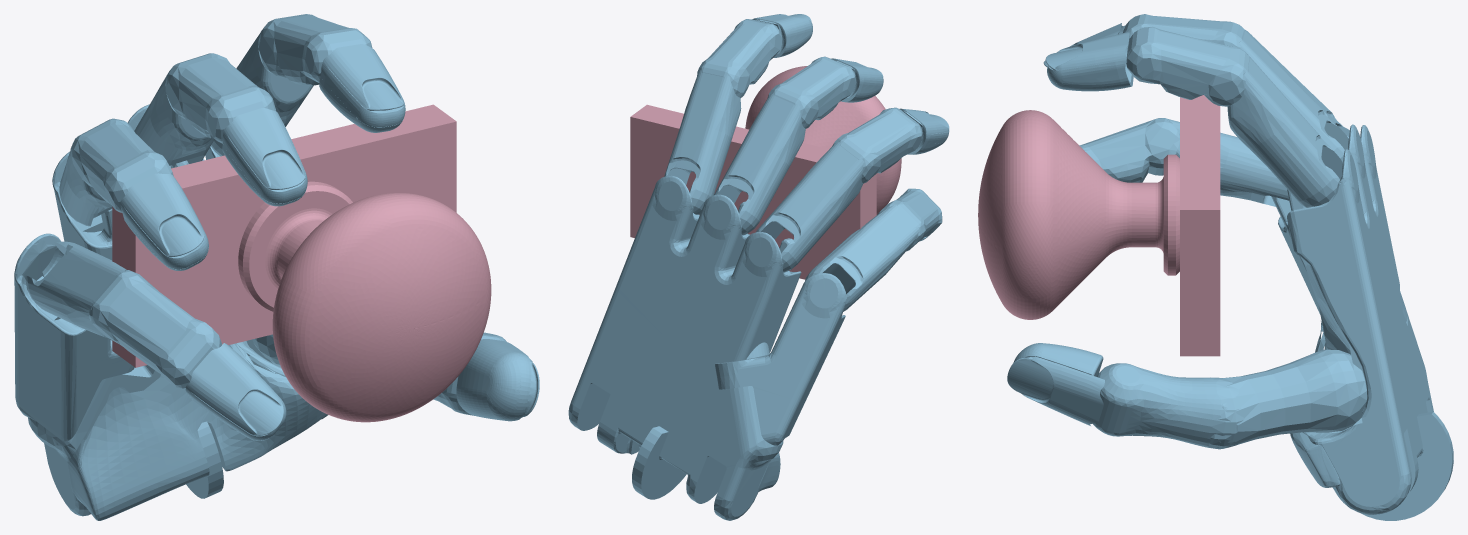
3 renders of one model, left to right at view 1: azimuth 30°, elevation 25°; view 2: azimuth 150°, elevation 25°; view 3: azimuth 270°, elevation 25°, orthographic. The views are drawn at different scales.
Visible parts, largest first — view 1: world, door_knob.stl; view 2: world, door_knob.stl; view 3: world, door_knob.stl.
Boxes of the visible parts, x1,y1,x2,y2 form: world: (14,14,539,520); door_knob.stl: (112,104,491,422); world: (568,14,949,520); door_knob.stl: (630,66,901,279); world: (1007,14,1453,520); door_knob.stl: (978,95,1220,356).
Size of the model in its own units: 0.1231 by 0.1667 by 0.1473.
